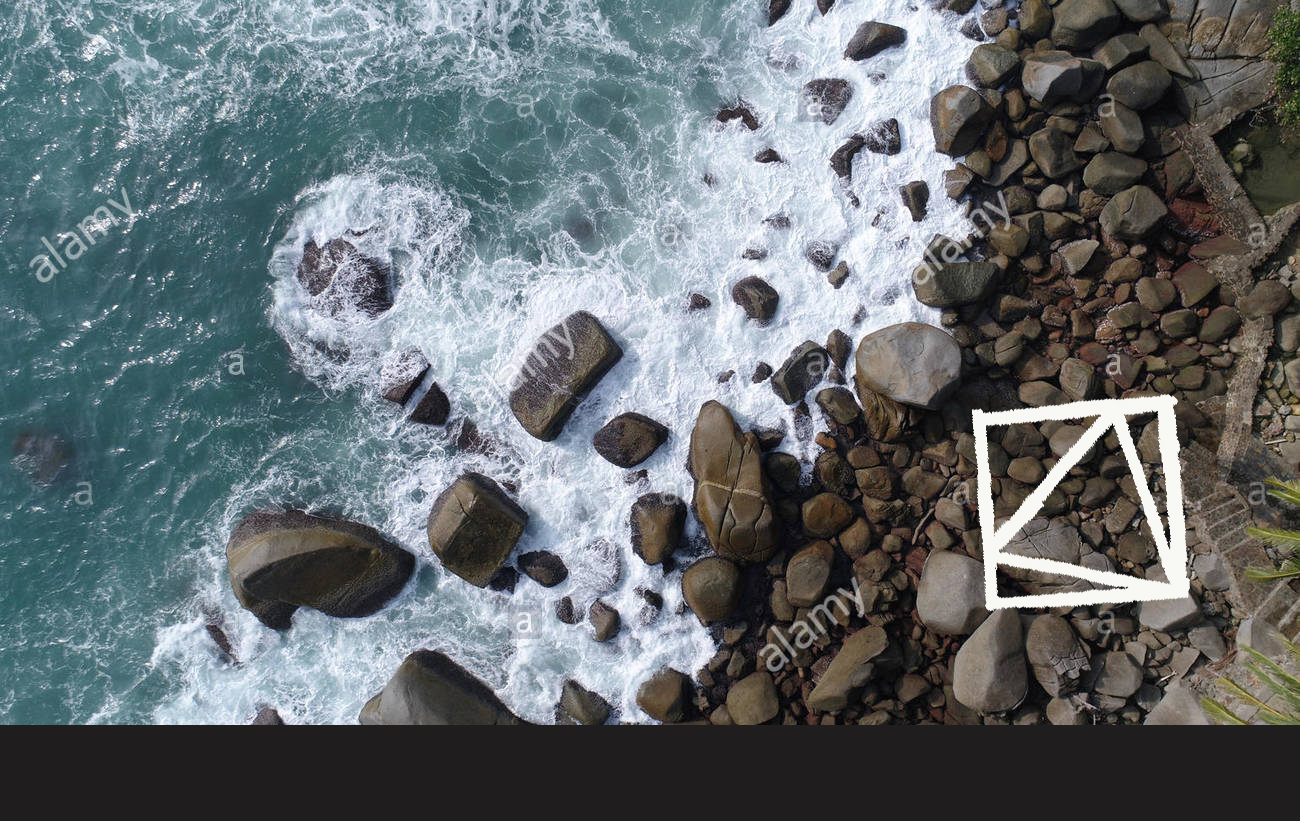marker: (963, 388, 1197, 619)
